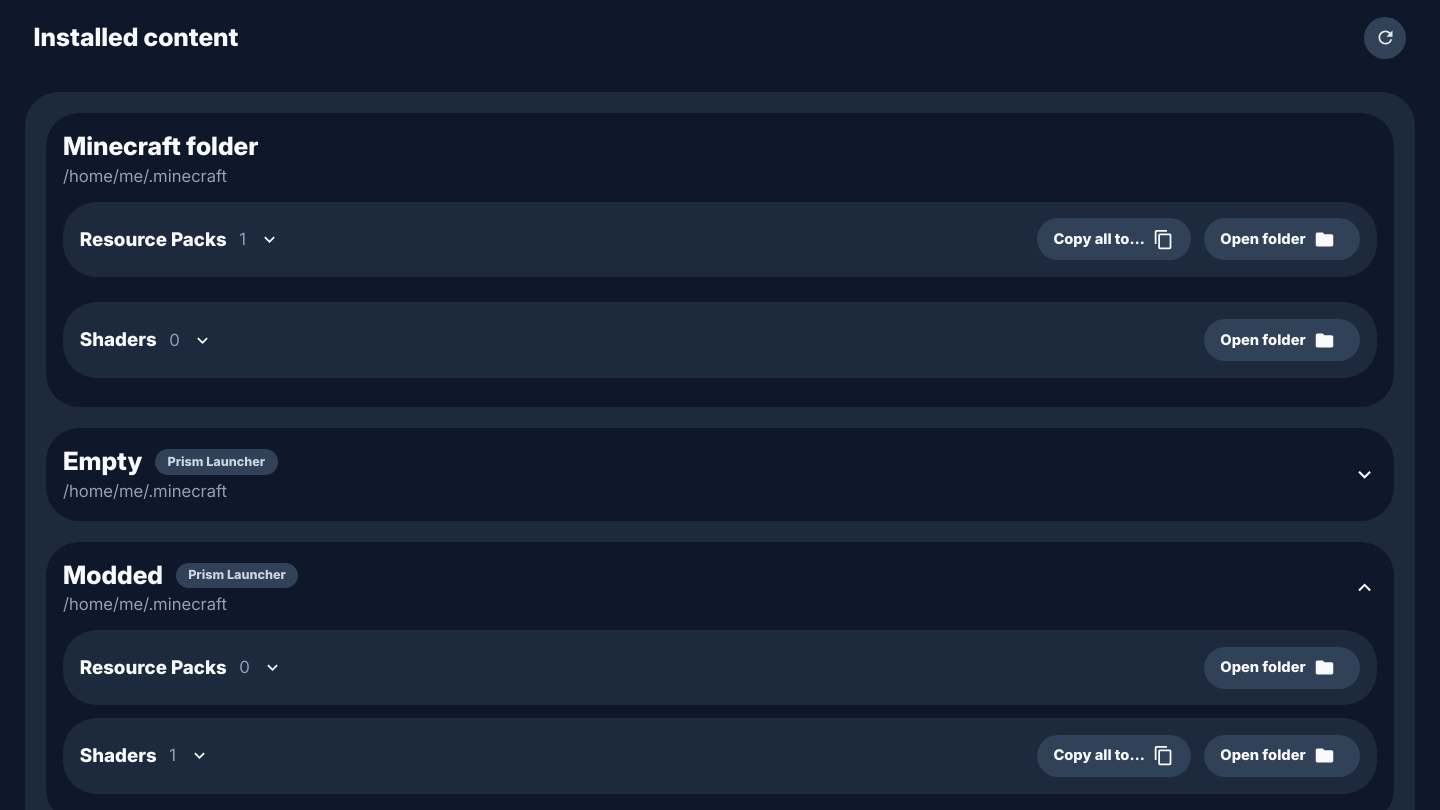
InstalledContentPage › starts a later location collapsed when it holds nothing
This screenshot has width=1440, height=810.
Expected: the text "Resource Packs" is shown 2 times, [80, 225, 227, 254]; [80, 653, 227, 682]
Expected: the text "Shaders" is shown 2 times, [80, 325, 157, 355]; [80, 741, 157, 771]
Click the text "Empty": (103, 462) [63, 445, 142, 479]
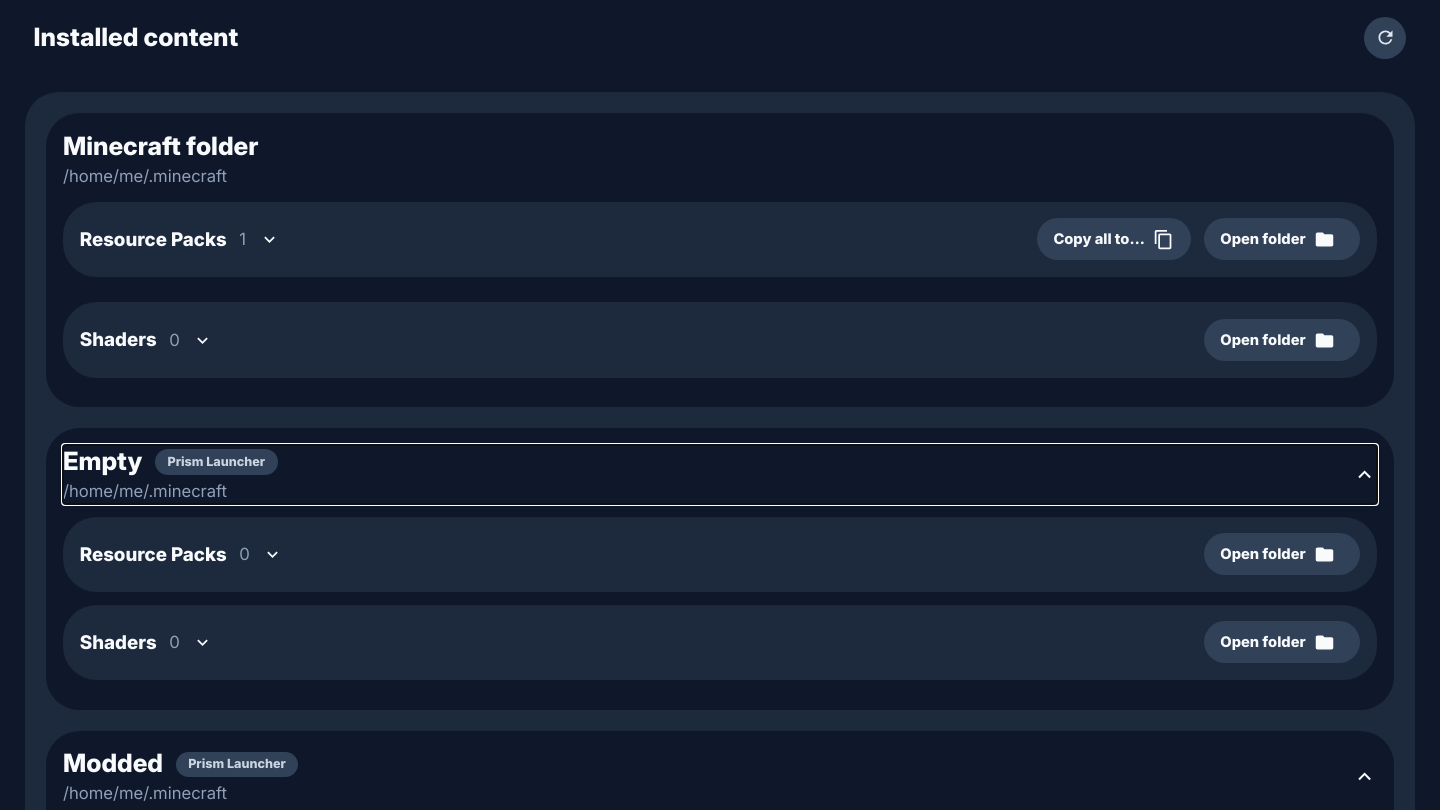
Result: the text "Resource Packs" is shown 3 times
